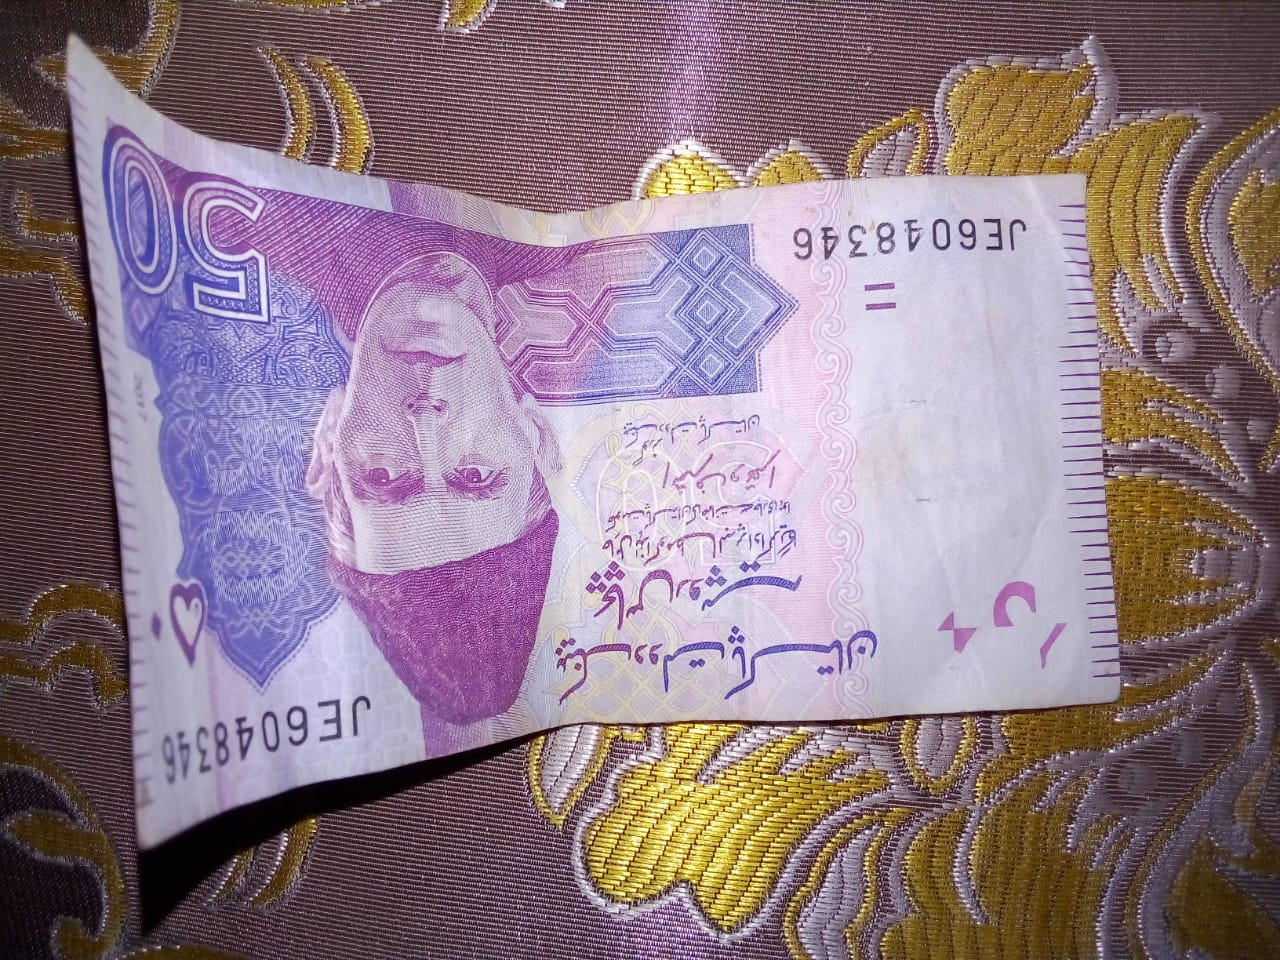50 rupee: (50, 33, 1130, 868)
